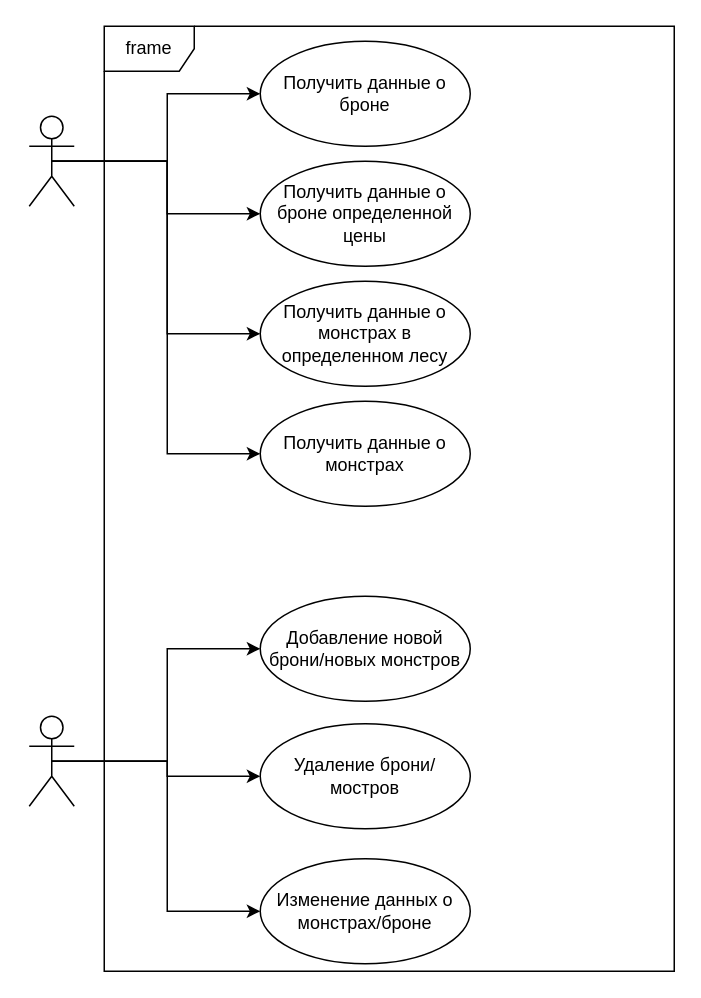
The diagram is 701 pixels wide and 998 high, and some of its shapes have lost their labels. Each missing label, with the centre of its shape:
"Admin" goes at point 51,760.
"User" goes at point 51,160.
